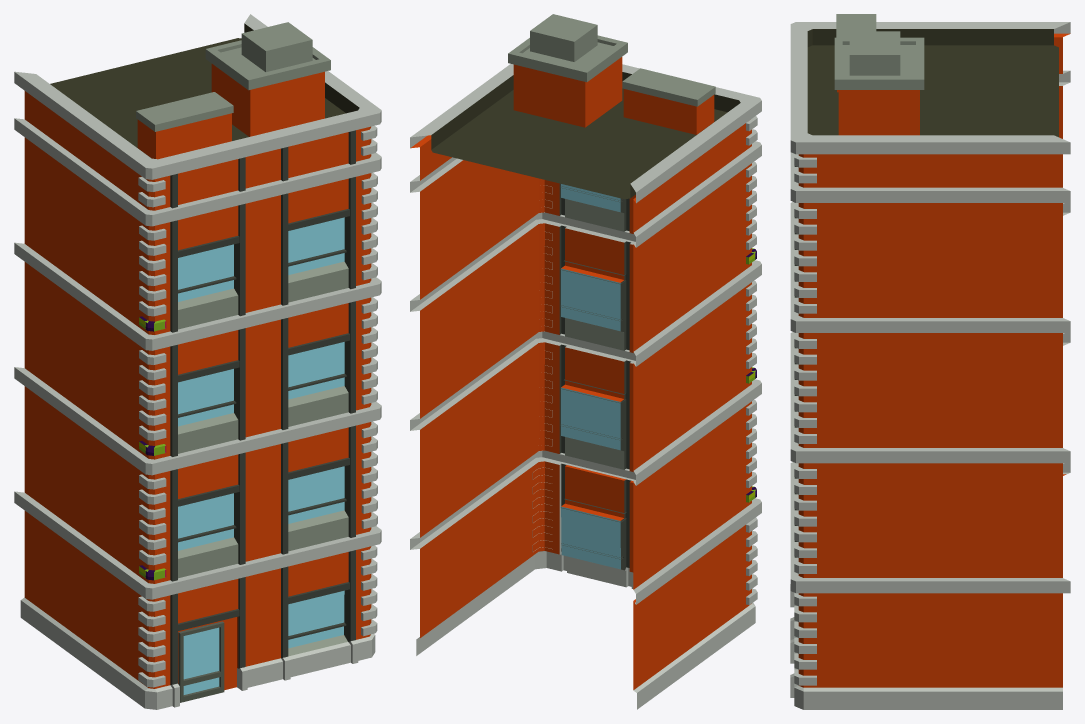
The model's file is House3.3.fbx.
3 renders of one model, left to right at view 1: azimuth 30°, elevation 25°; view 2: azimuth 150°, elevation 25°; view 3: azimuth 270°, elevation 25°, orthographic. The views are drawn at different scales.
Parts seen in each view (by area): view 1: House3.001; view 2: House3.001; view 3: House3.001.
Part boxes in pixels (x1,y1,x2,y2): House3.001: [14, 14, 381, 709]; House3.001: [410, 14, 761, 709]; House3.001: [790, 14, 1070, 709].
Bounding box in the file's own units: 795 × 1950 × 782.
Materials: 1 (1 with a texture image).
